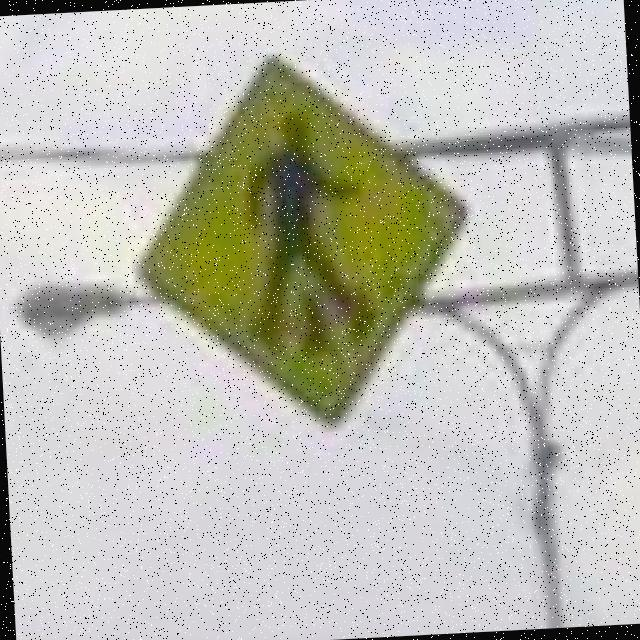Przejscie dla pieszych: (132, 50, 474, 426)
